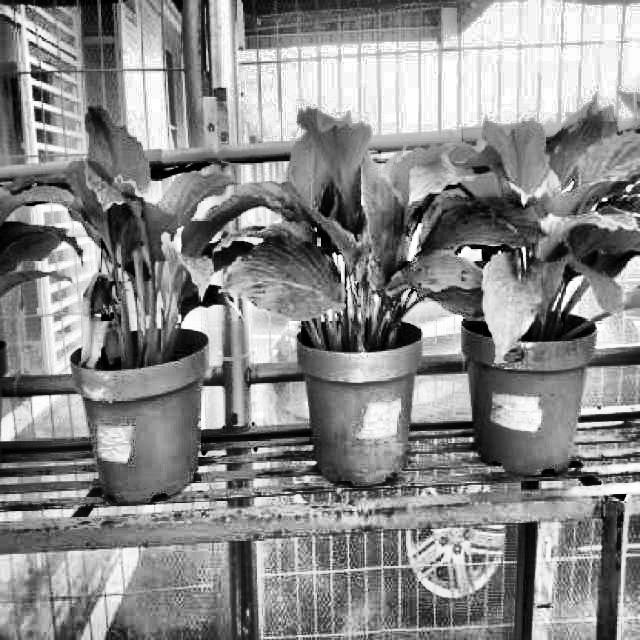plants: (10, 108, 267, 377), (404, 86, 638, 360), (212, 100, 466, 342)
